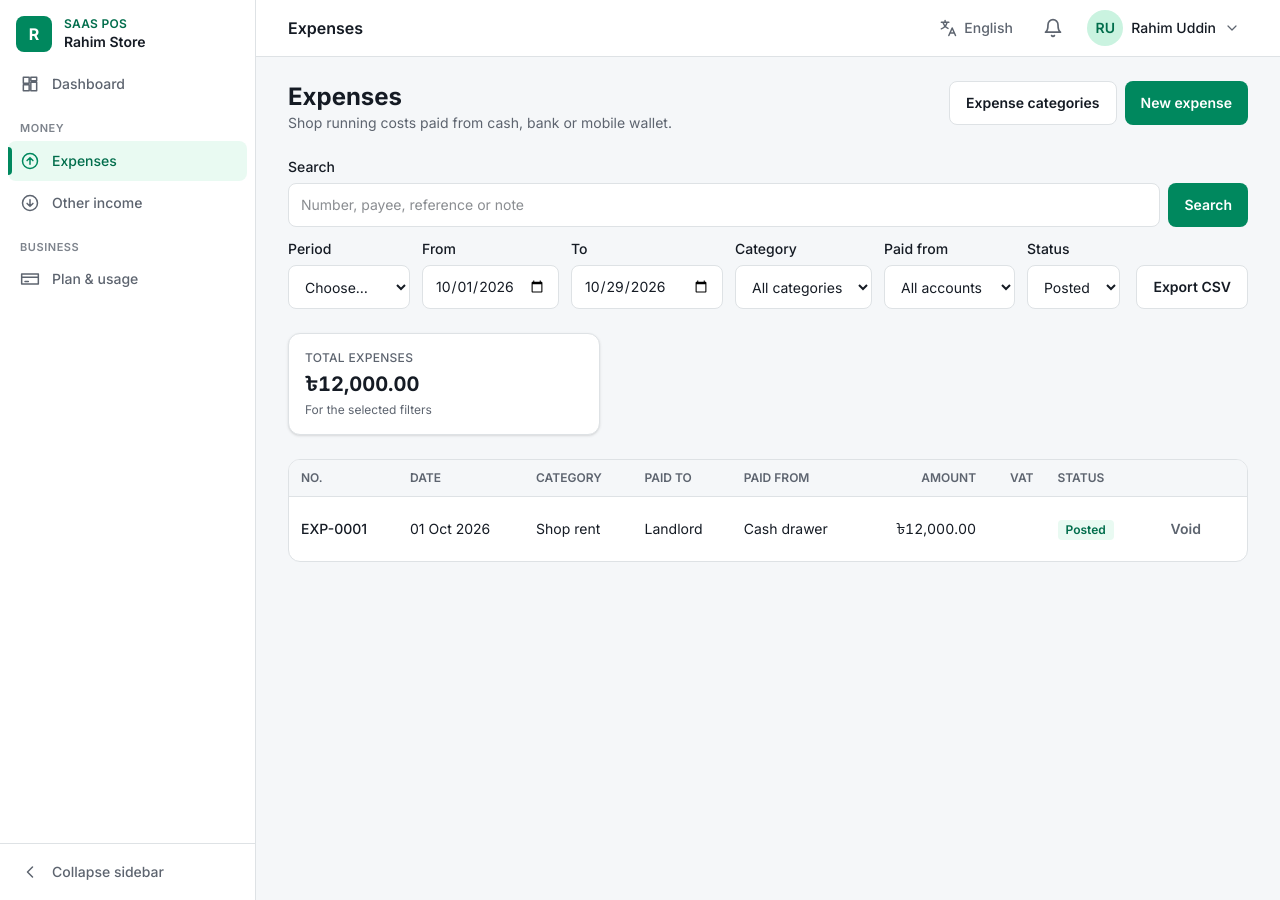
expenses › records an expense from the dialog
The image size is (1280, 900).
Expected: the text "EXP-0001" is shown, 301,520 -> 367,537
Click the button "New expense" at point(1186, 103), box 1124,81 -> 1248,125
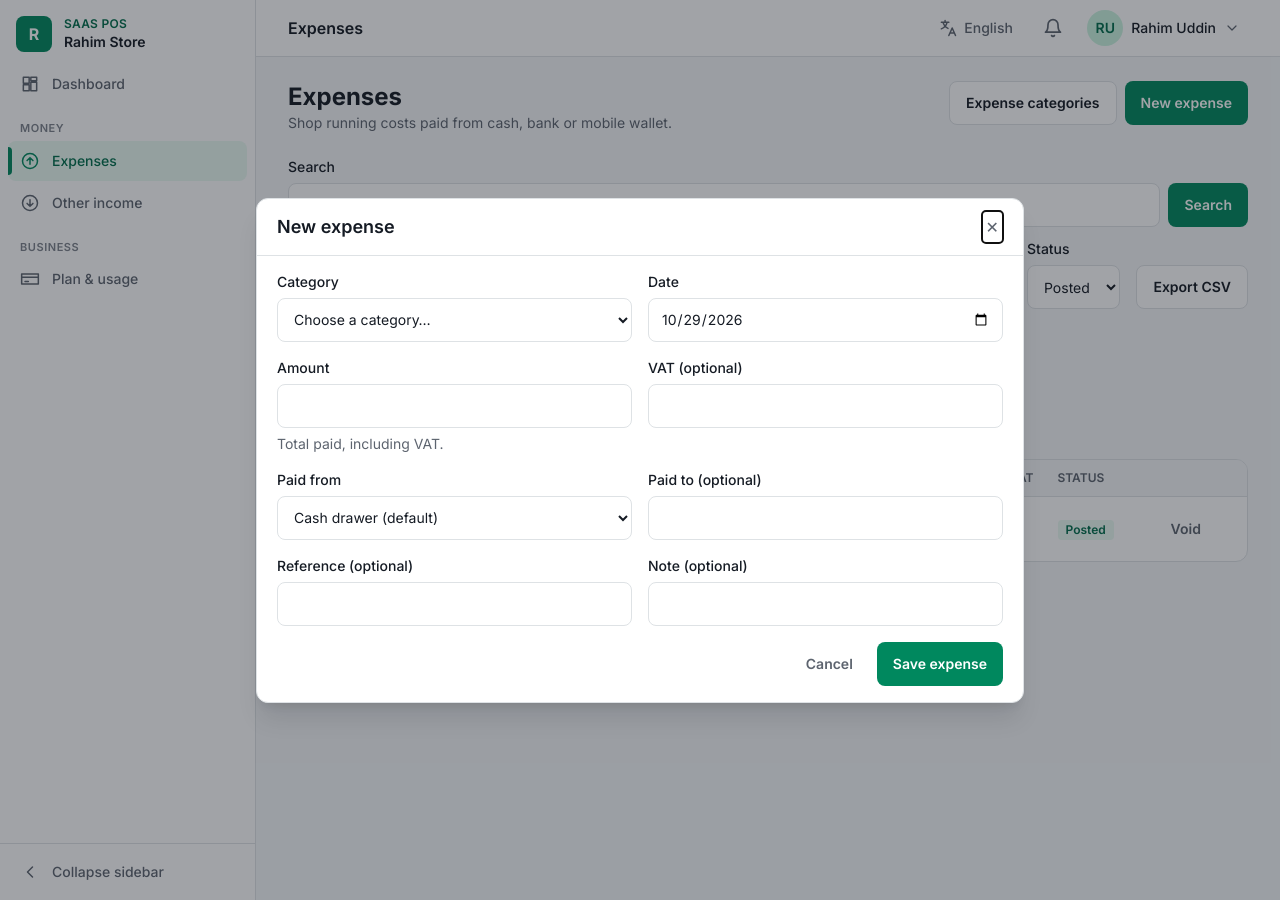
Select "Electricity" in the dropdown labelled "Category" at point(454, 320), box 277,298 -> 632,342
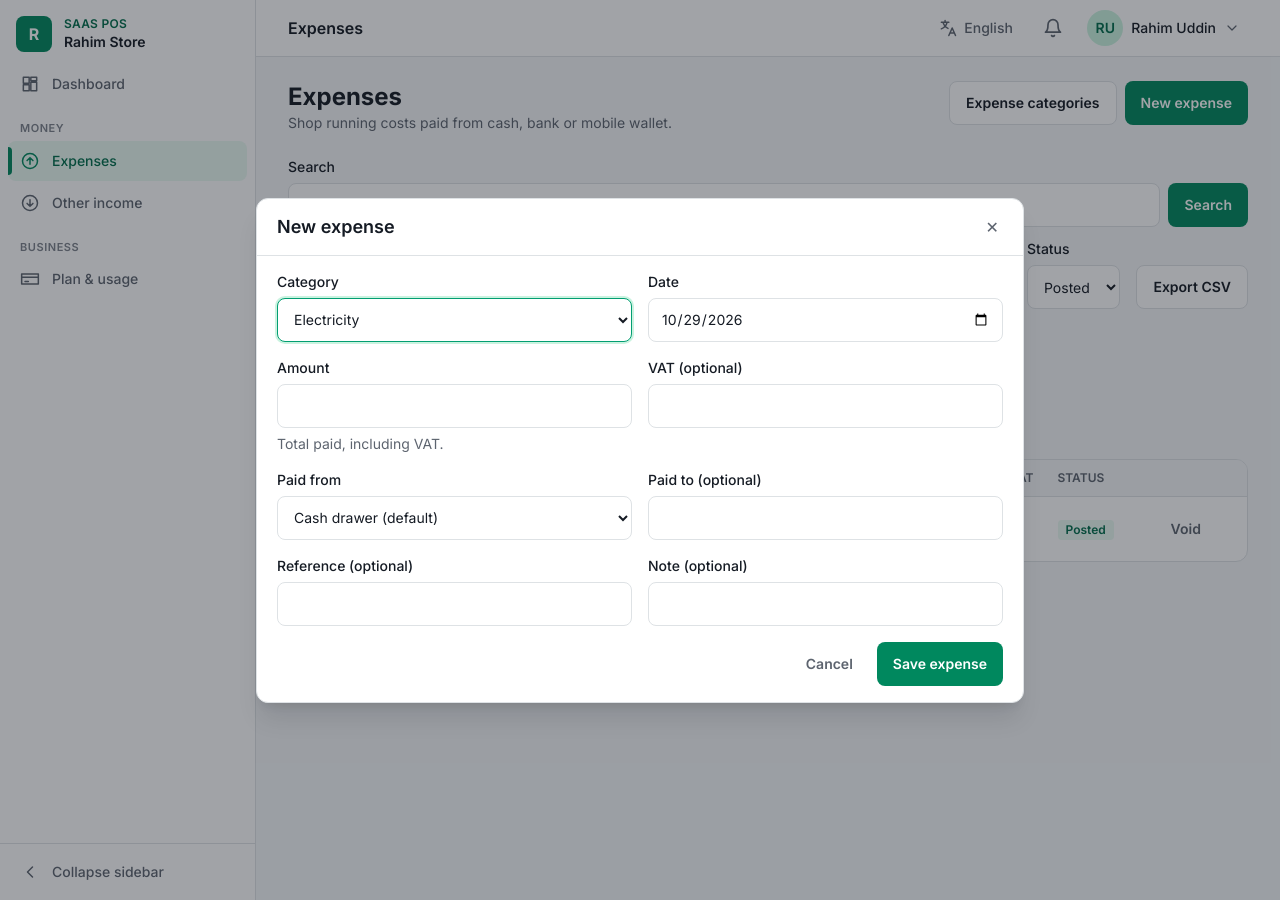
Type "1500" into the field labelled "Amount" at point(454, 406), box 277,384 -> 632,428
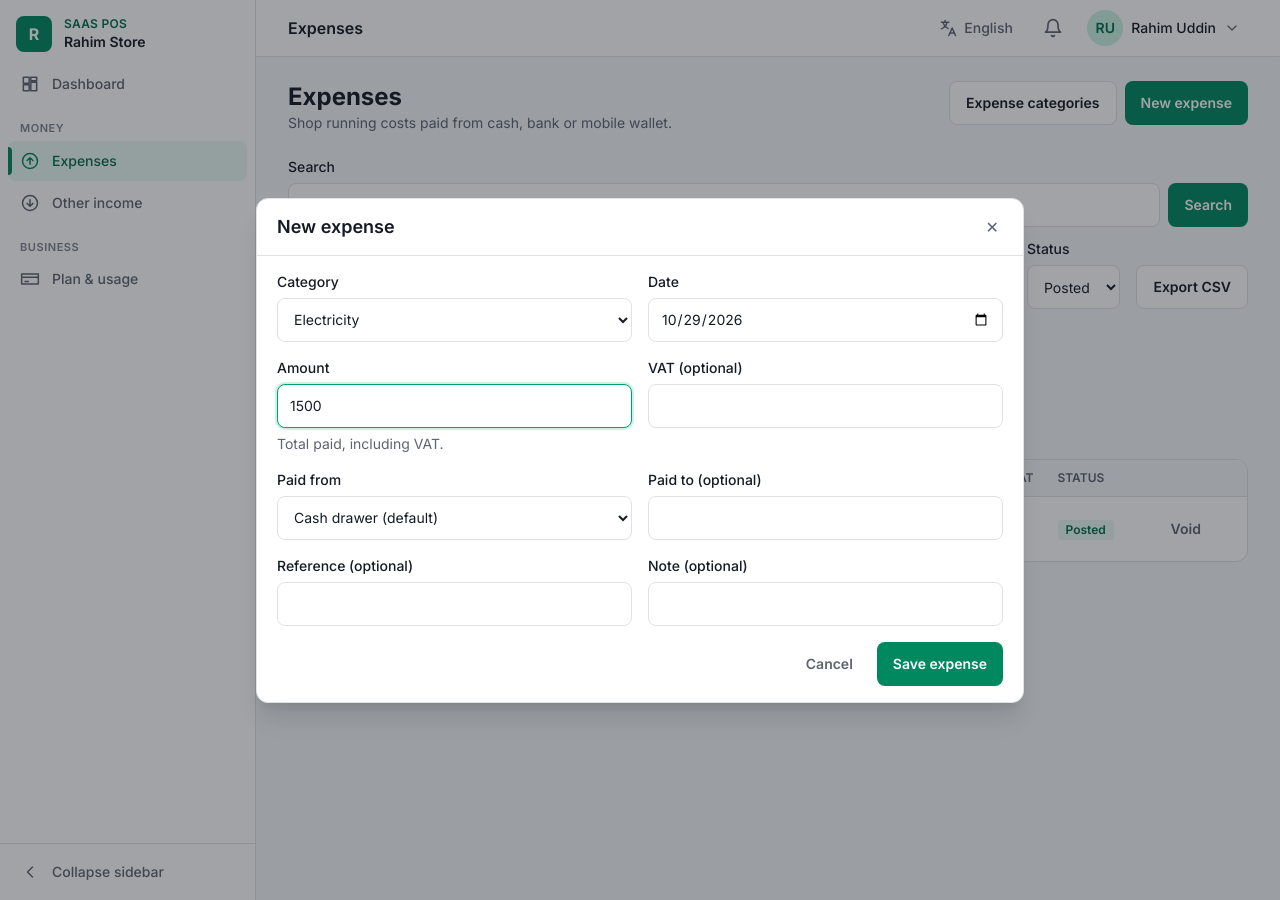
Type "75" into the field labelled "VAT (optional)" at point(826, 406), box 648,384 -> 1003,428
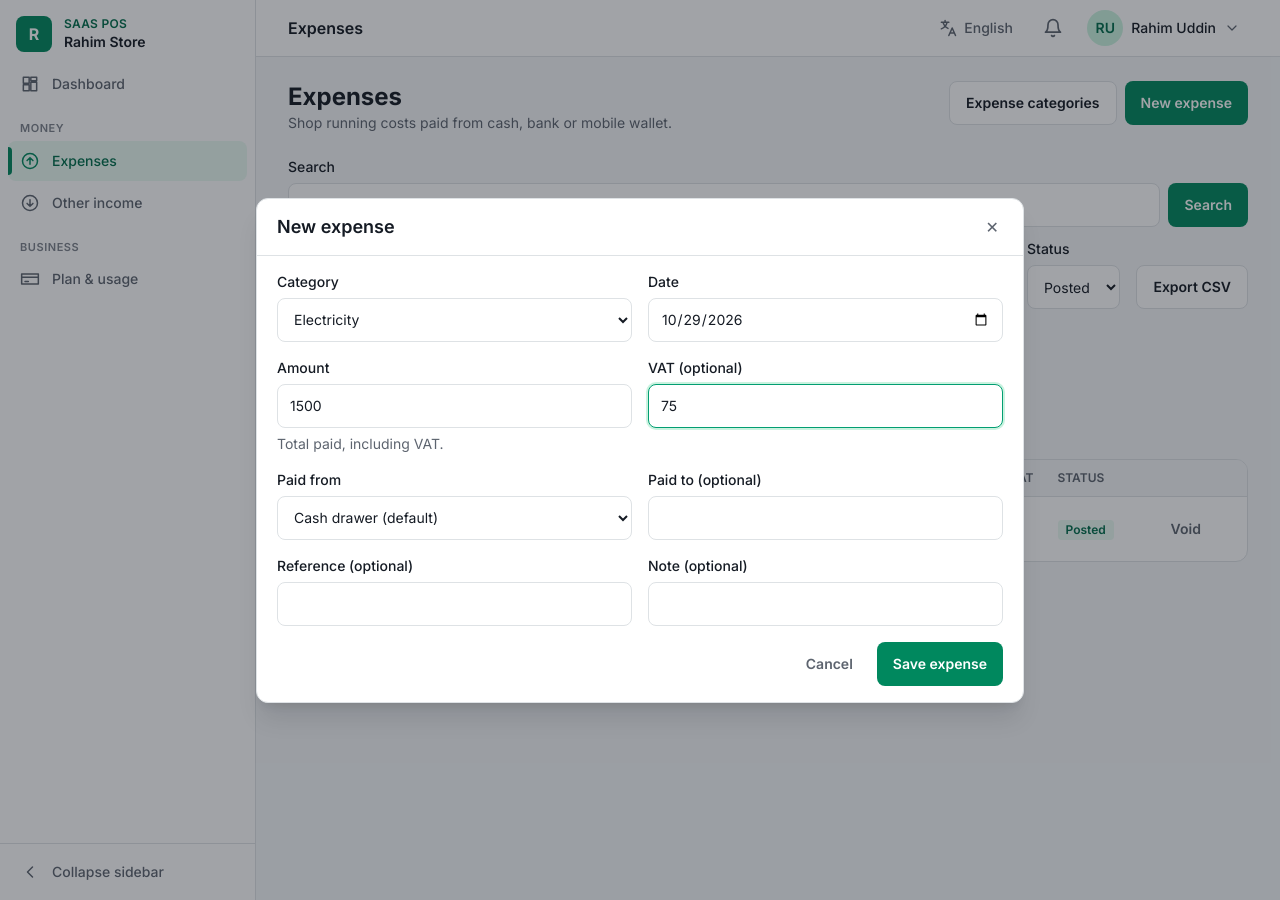
Type "DESCO" into the field labelled "Paid to (optional)" at point(826, 518), box 648,496 -> 1003,540
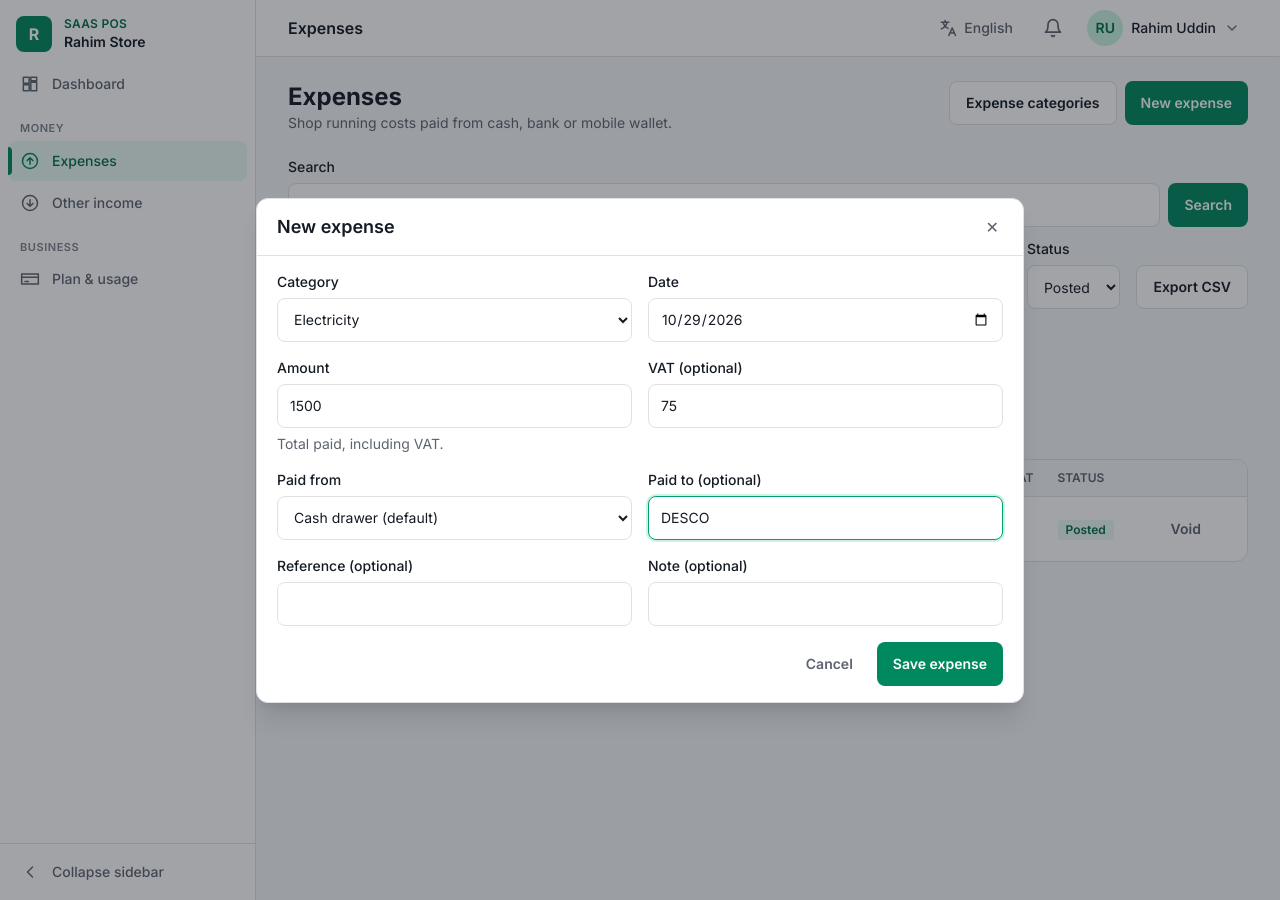
Click the button "Save expense" at point(940, 664), box 877,642 -> 1003,686
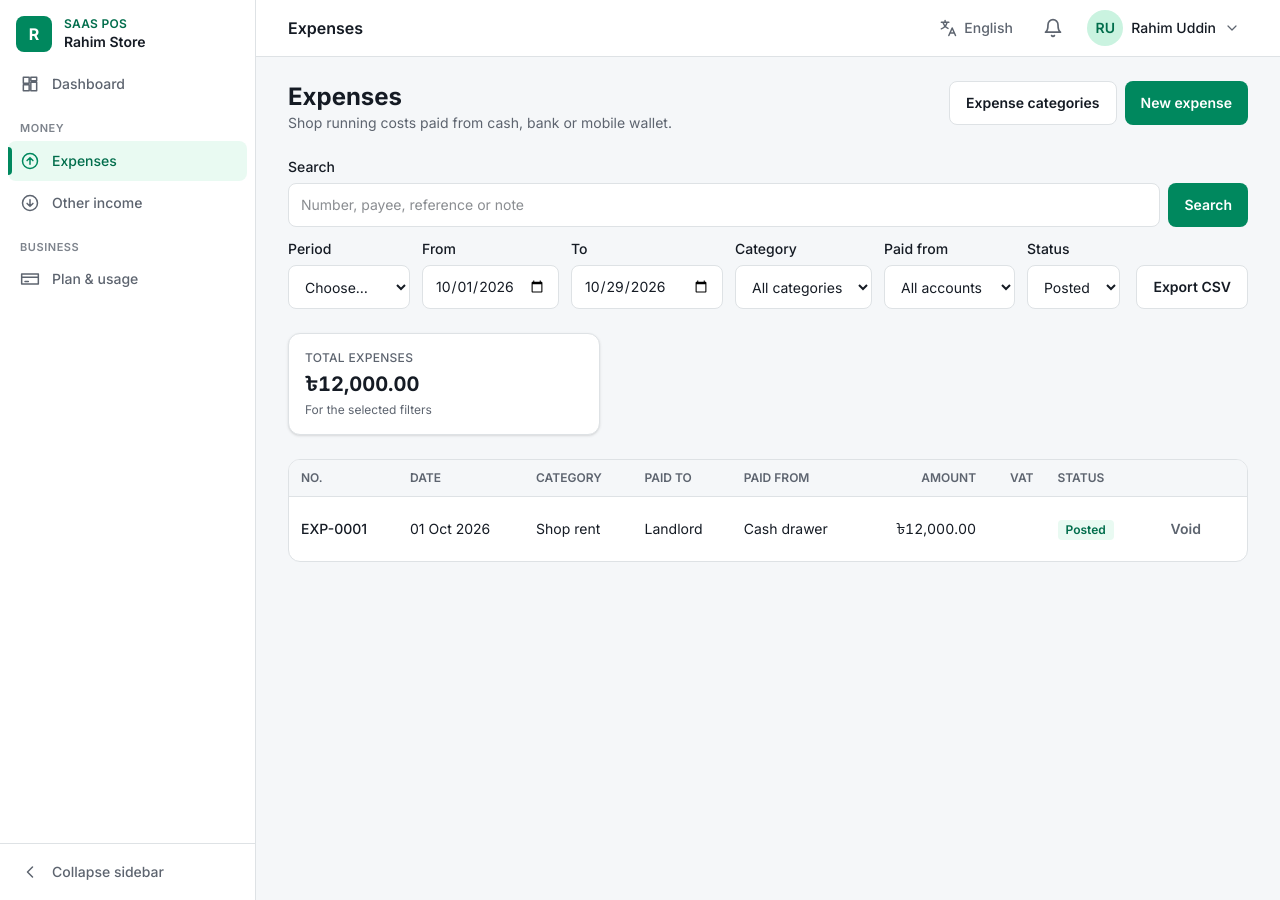
Now the dialog is gone
